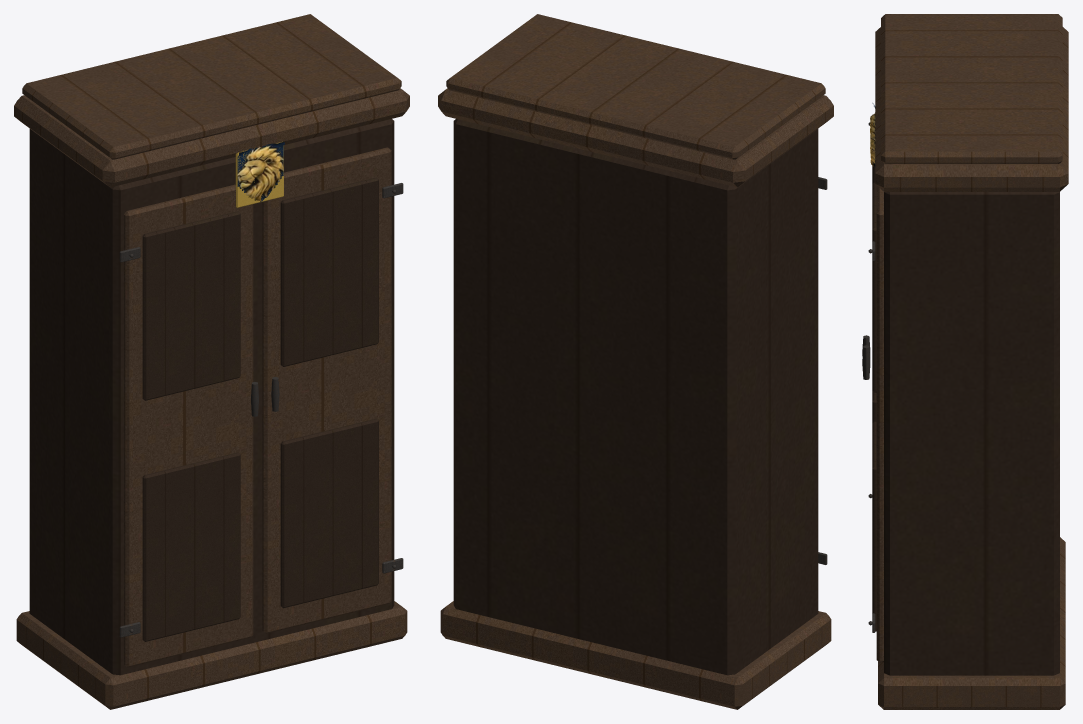
The model's file is wardrobe.glb.
The picture shows the model from 3 angles, left to right: view 1: azimuth 30°, elevation 25°; view 2: azimuth 150°, elevation 25°; view 3: azimuth 270°, elevation 25°; orthographic projection.
Parts seen in each view (by area): view 1: wardrobe; view 2: wardrobe; view 3: wardrobe.
Part boxes in pixels (left/top/right/bottom): wardrobe: left=14, top=14, right=409, bottom=709; wardrobe: left=438, top=14, right=833, bottom=709; wardrobe: left=862, top=14, right=1068, bottom=709.
Bounding box in the file's own units: 1.2 × 2.1 × 0.7039.
1 material, 1 textured.
